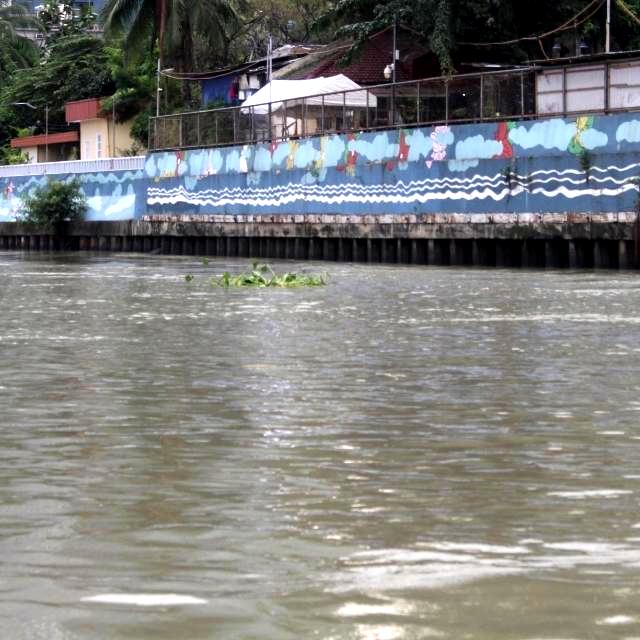water-hyacinth: (181, 255, 322, 289)
